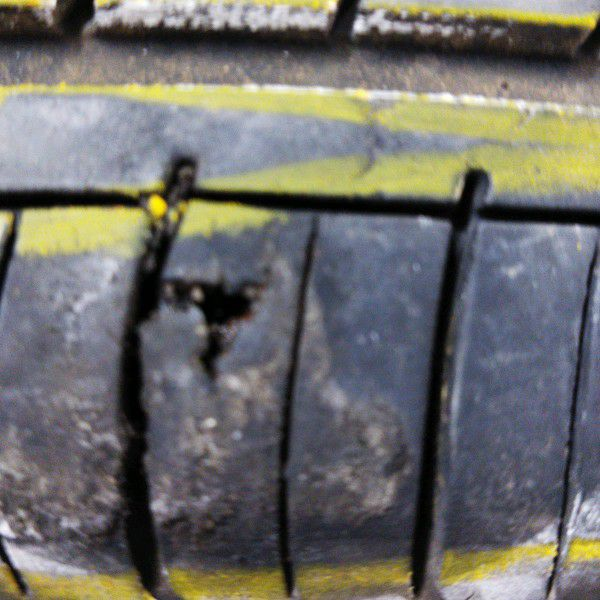tr: (158, 271, 270, 381)
